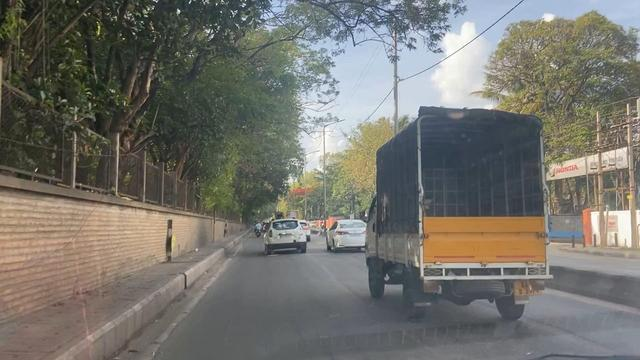HMV: (365, 104, 549, 317)
LMV: (265, 217, 308, 254)
